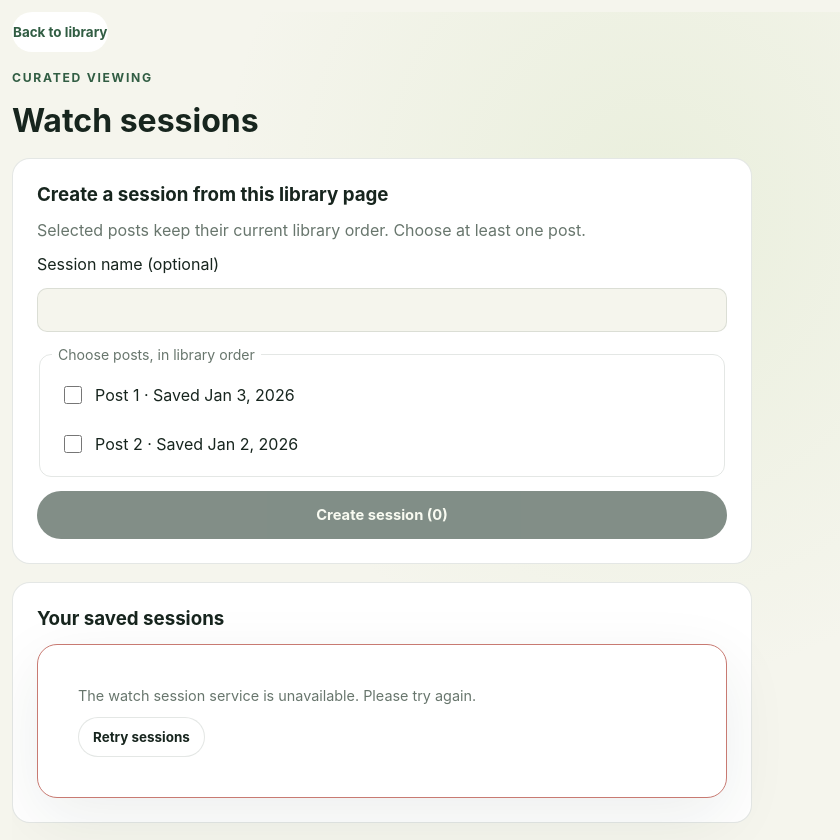
watch sessions › allows retrying a failed watch-session list request
Check: the message shows "The watch session service is unavailable. Please try again.", box [78,687,476,704]
Click the button "Retry sessions". click: (141, 737)
box: [78,717,205,757]
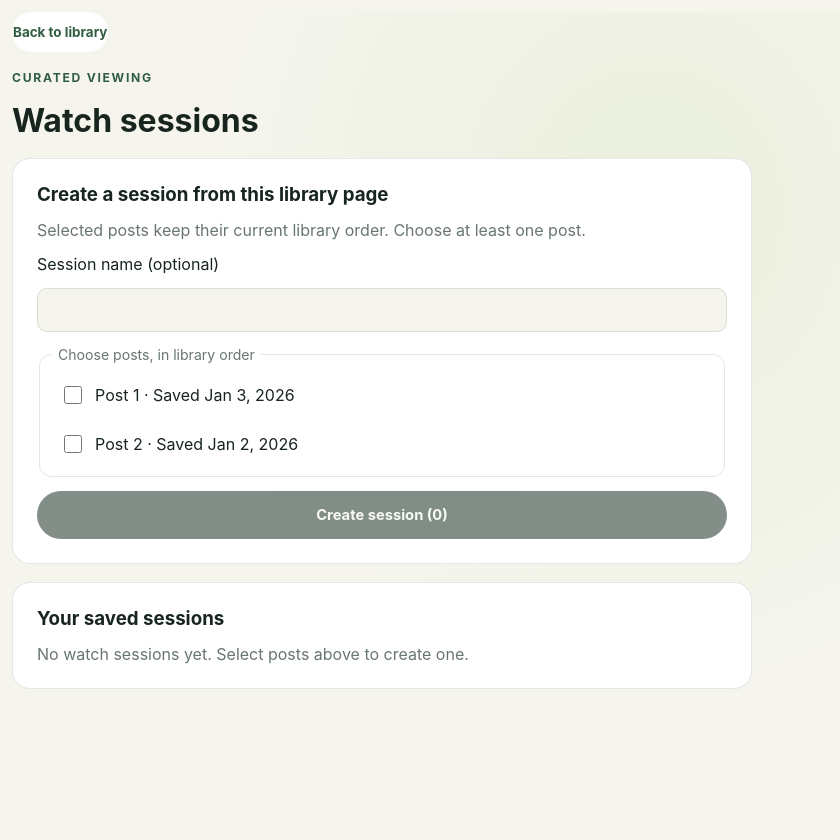
Check: the text "No watch sessions yet. Select posts above to create one." is shown, box [37,644,469,664]
